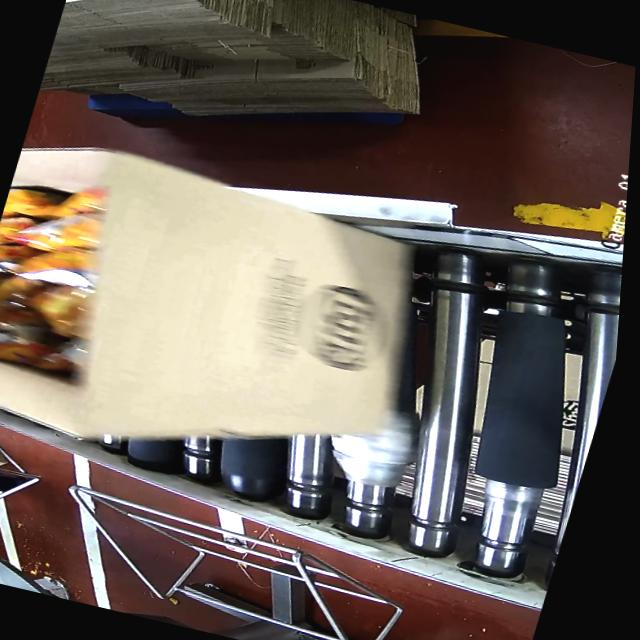FRENCH_CHEESE: (0, 177, 134, 371)
